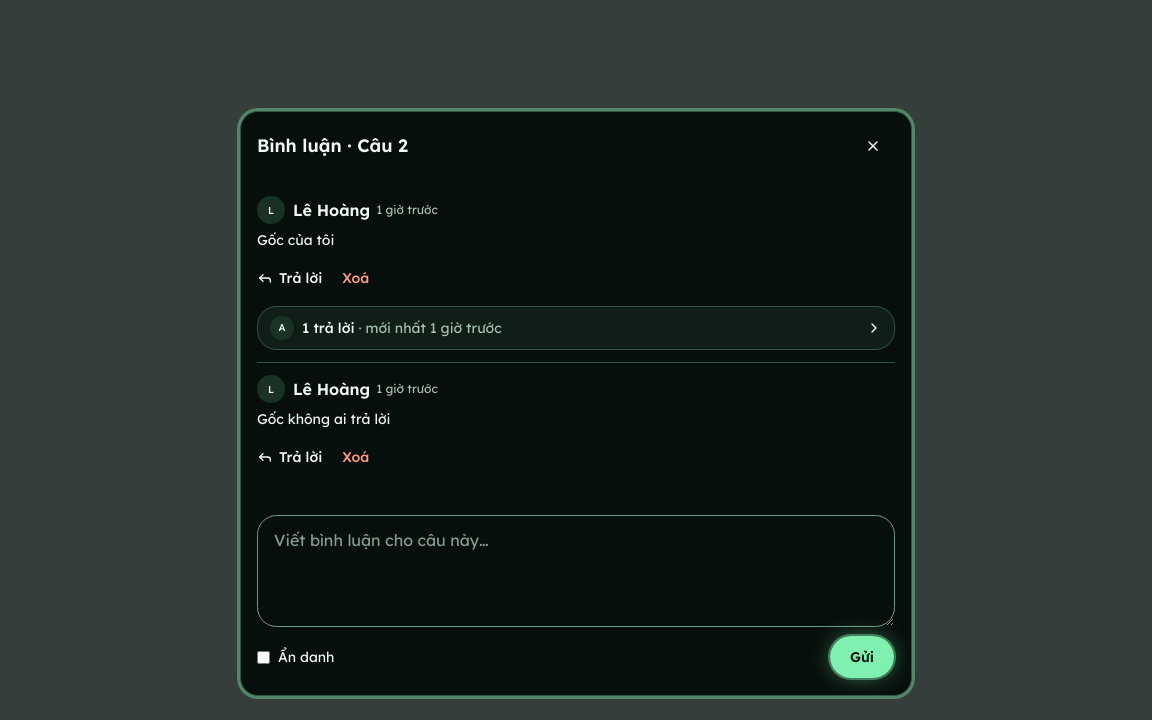
Test case: CommentSheet — xoá gốc còn trả lời (AC-R4, AC-R6) › gốc của tôi còn trả lời → thành dòng mờ không nút, trả lời còn nguyên; gốc không còn trả lời → biến mất
This screenshot has width=1152, height=720.
Click the button "Xoá" below "Gốc của tôi" at point(356, 278), box x1=342 y1=256 x2=369 y2=300
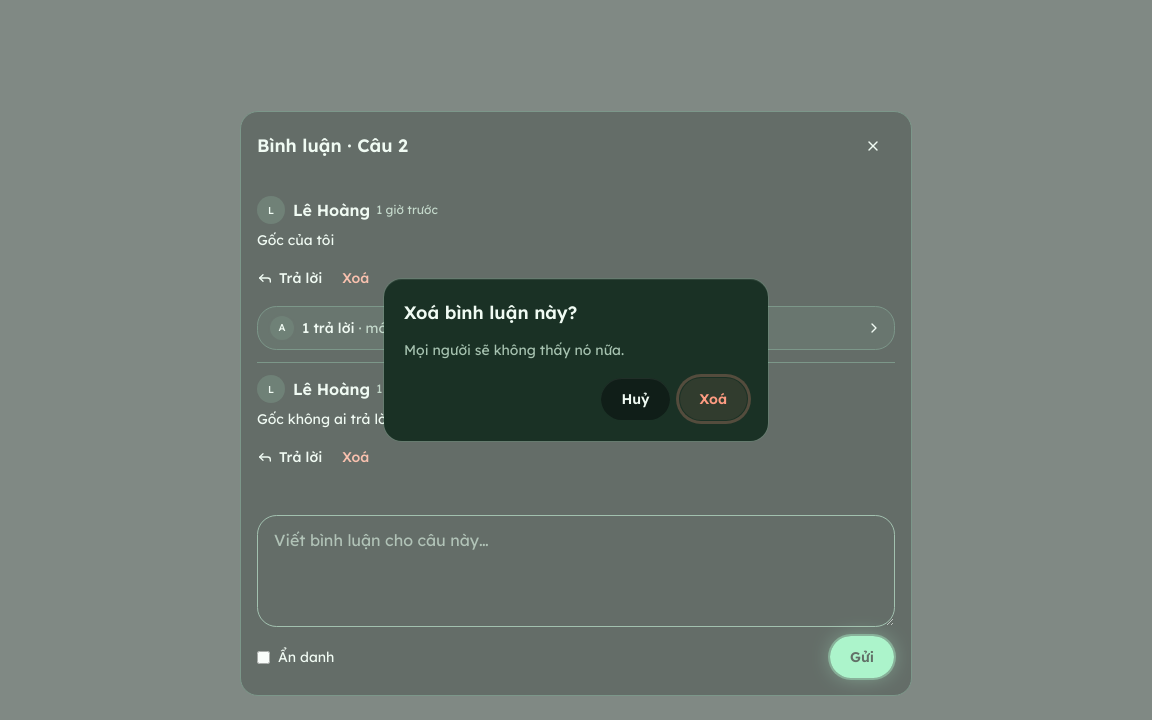
Click the button "Xoá" at point(713, 399), box x1=679 y1=377 x2=748 y2=421
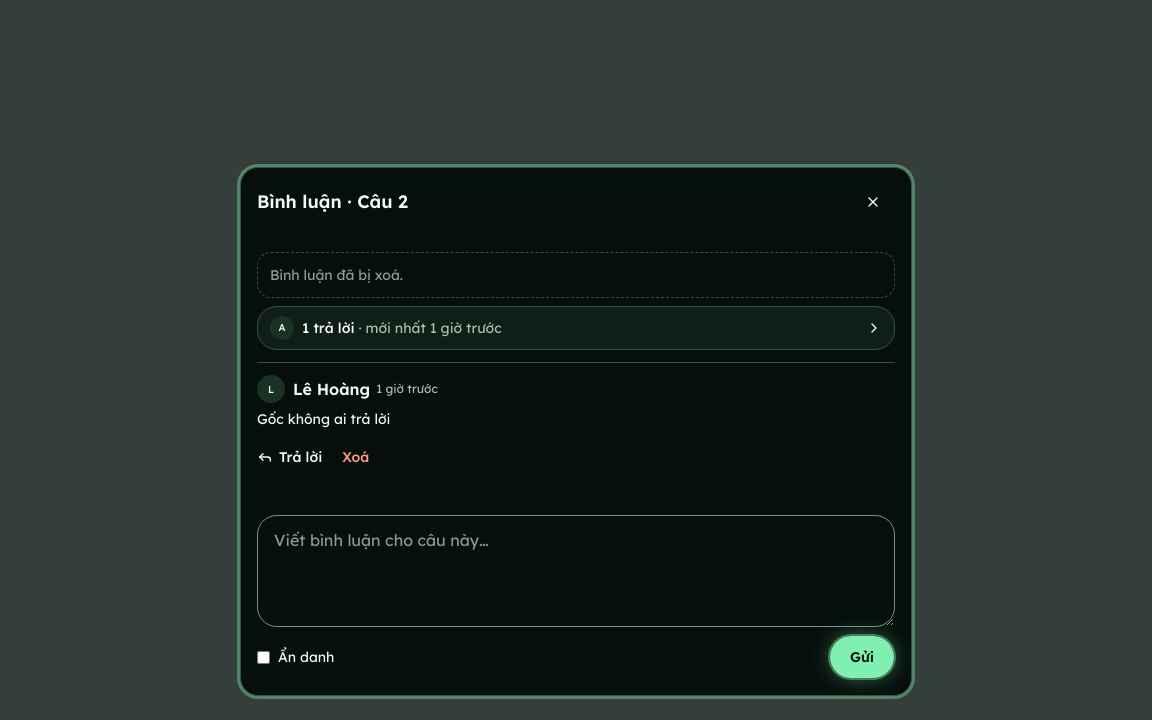
Check: the button "A 1 trả lời · mới nhất 1 giờ trước" is shown, box x1=257 y1=306 x2=895 y2=350
Check: the text "Gốc của tôi" is gone
Click the button "Xoá" at point(356, 457), box x1=342 y1=435 x2=369 y2=479
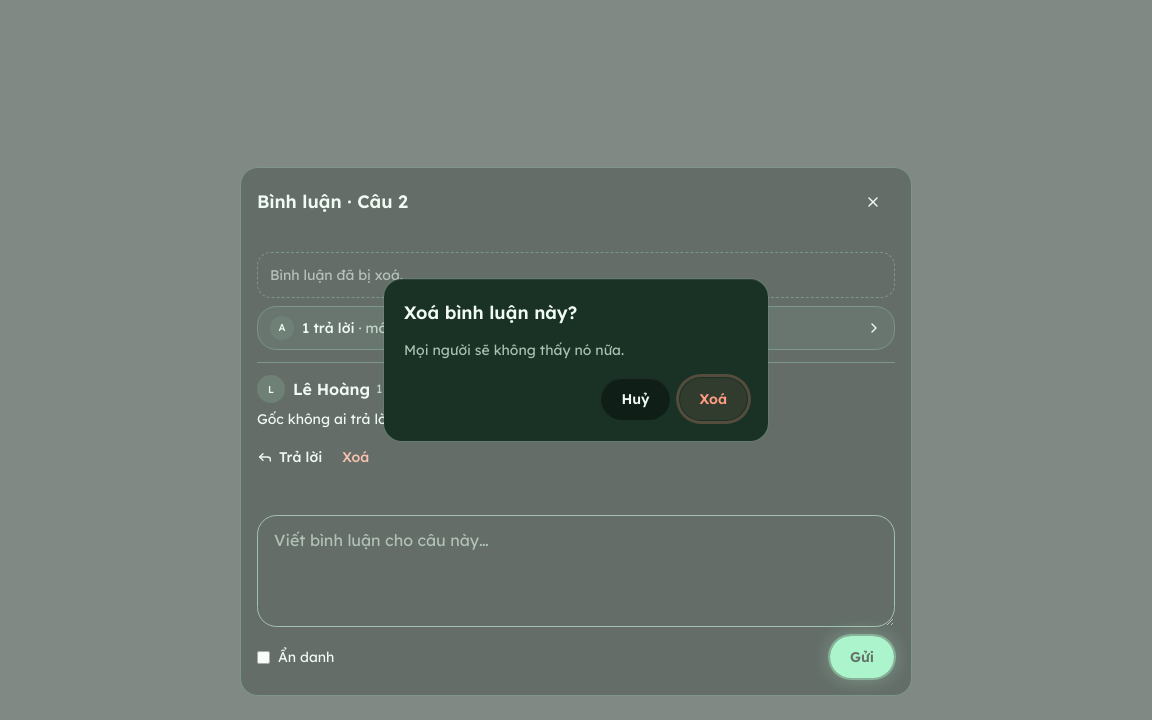
Click the button "Xoá" at point(713, 399), box x1=679 y1=377 x2=748 y2=421
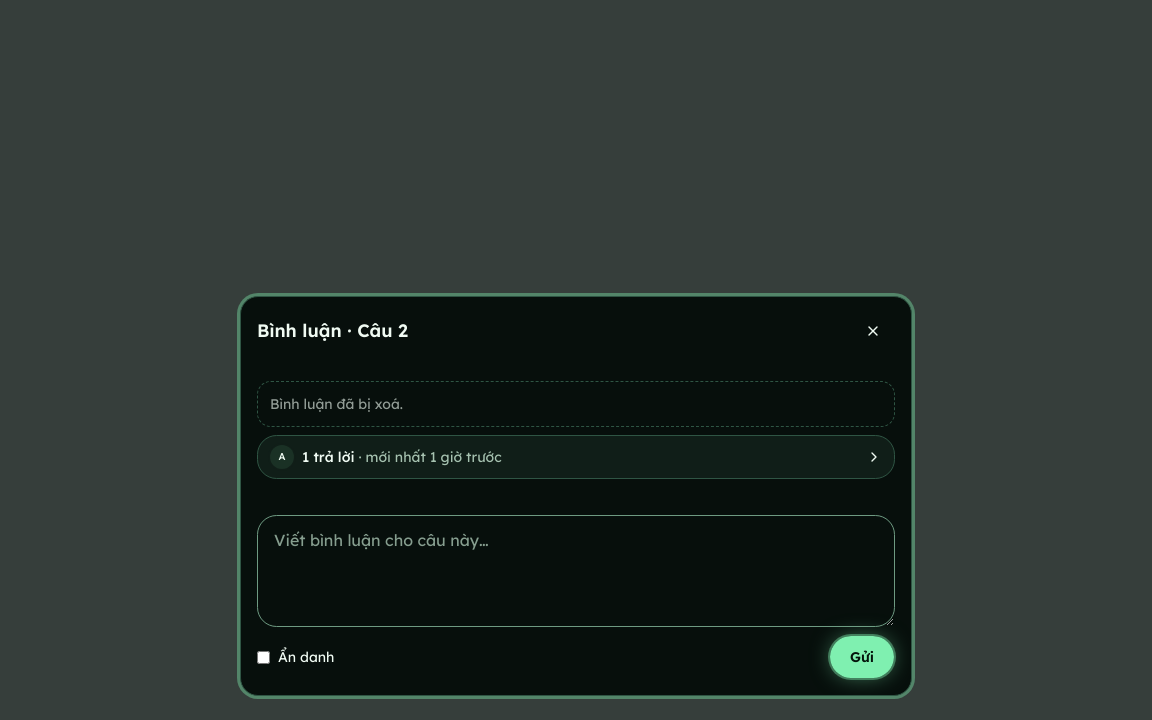
Check: the text "Gốc không ai trả lời" is gone
